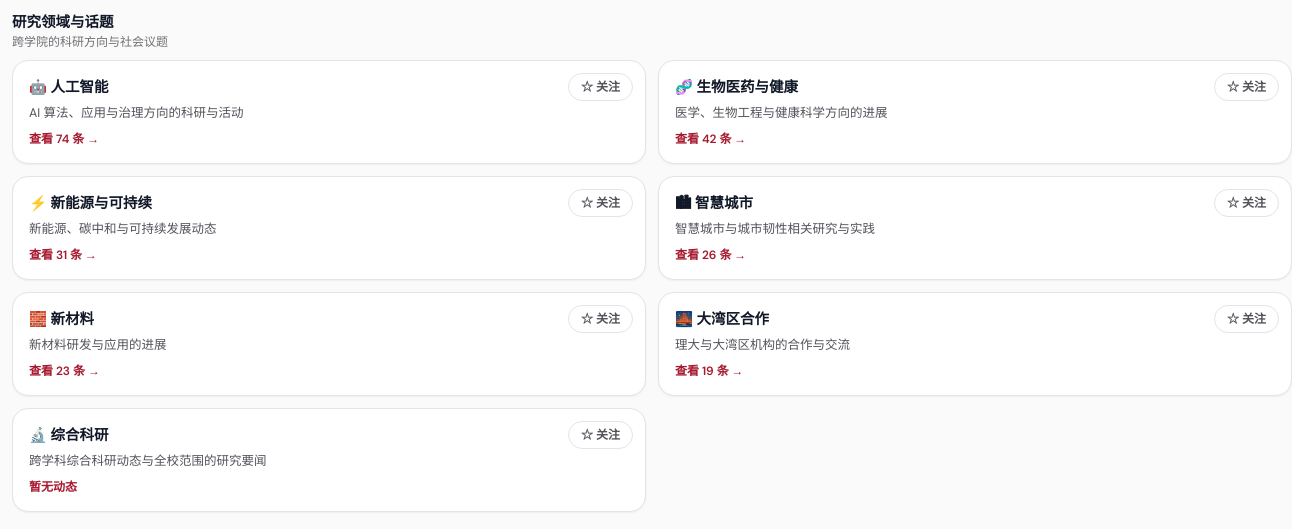
Scenario: TopicsGrid › #215 renders a local follow toggle per card: 关注→已关注 writes slug to localStorage
This screenshot has width=1292, height=529.
Click the button "☆ 关注" in the row of "🤖 人工智能" at (600, 87), box [568,73,633,101]
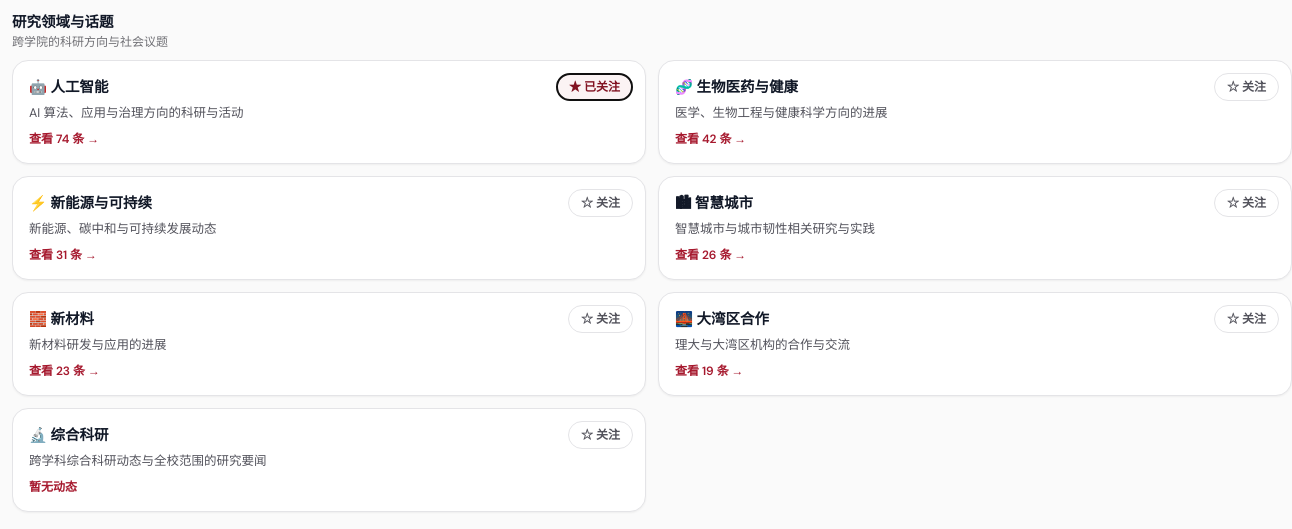
Expected: the number of buttons "☆ 关注" is 6, [1214,73,1279,101]; [568,189,633,217]; [1214,189,1279,217]; [568,305,633,333]; [1214,305,1279,333]; [568,421,633,449]
Now the button "★ 已关注" is shown
# 再点取关：状态与持久层同步回落
Click the button "★ 已关注" at (594, 87), box [556,73,633,101]
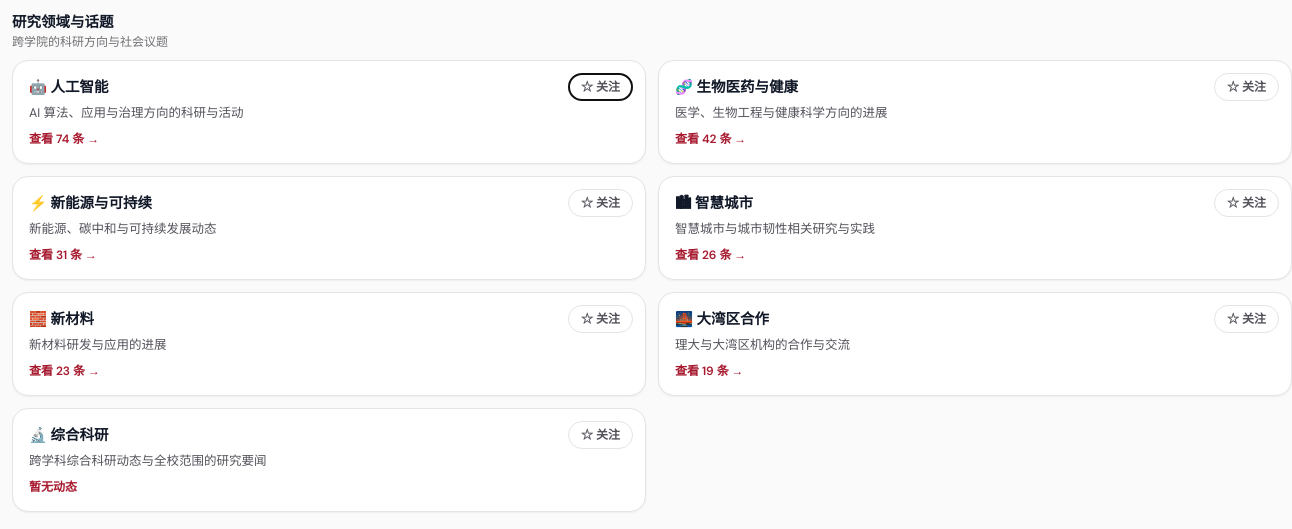
Now the button "☆ 关注" in the row of "🤖 人工智能" is shown, box [568,73,633,101]
